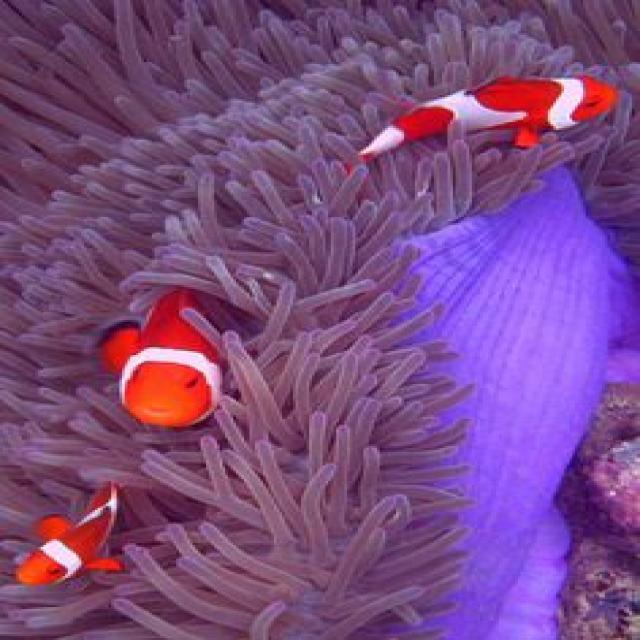ClownFish: (338, 76, 625, 174), (95, 281, 232, 448), (14, 481, 122, 586)
